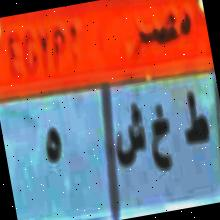5: (41, 122, 67, 170)
Taa: (176, 91, 214, 150)
khaa: (144, 105, 178, 184)
sheen: (107, 102, 150, 174)
